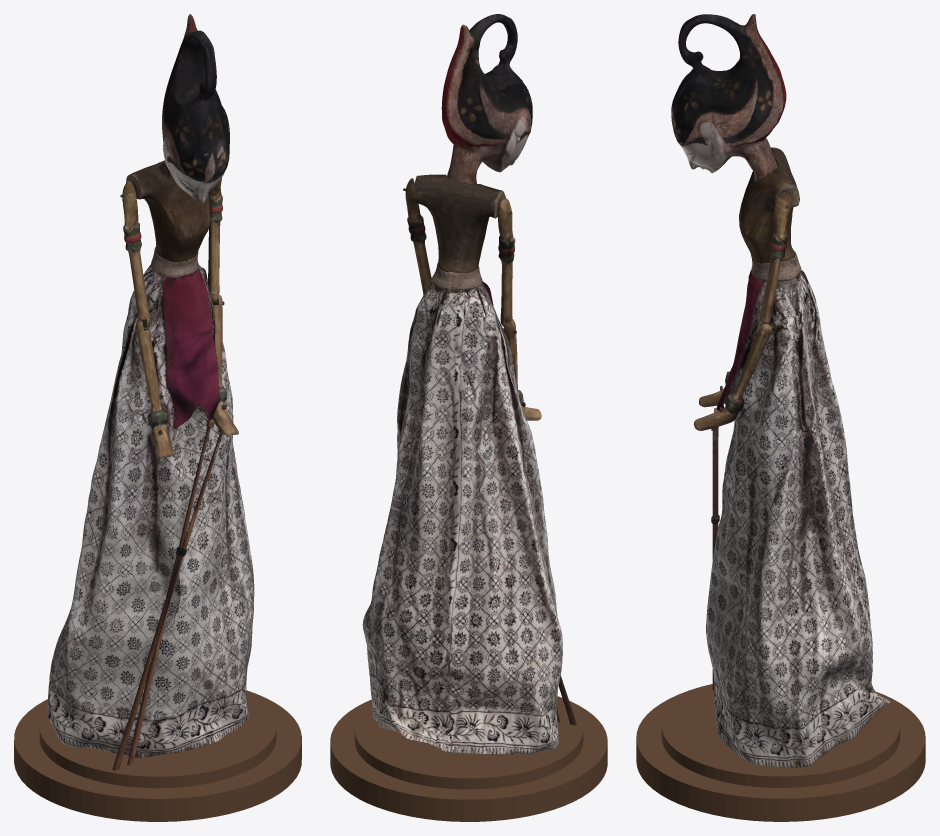
The model's file is hantu_wayang.glb.
3 renders of one model, left to right at view 1: azimuth 30°, elevation 25°; view 2: azimuth 150°, elevation 25°; view 3: azimuth 270°, elevation 25°, orthographic. The views are drawn at different scales.
Parts seen in each view (by area): view 1: Wayang_Batik_Skirt, Wayang_Body_Arms, Wayang_Pedestal_Base, Wayang_Head_Gelung, Wayang_Pedestal_Tier; view 2: Wayang_Batik_Skirt, Wayang_Pedestal_Base, Wayang_Head_Gelung, Wayang_Body_Arms, Wayang_Pedestal_Tier; view 3: Wayang_Batik_Skirt, Wayang_Head_Gelung, Wayang_Pedestal_Base, Wayang_Pedestal_Tier, Wayang_Body_Arms.
Boxes of the visible parts, left/top/right/bottom form: Wayang_Batik_Skirt: left=47, top=264, right=254, bottom=757; Wayang_Body_Arms: left=112, top=160, right=238, bottom=770; Wayang_Pedestal_Base: left=14, top=690, right=301, bottom=821; Wayang_Head_Gelung: left=151, top=14, right=229, bottom=278; Wayang_Pedestal_Tier: left=39, top=693, right=276, bottom=788; Wayang_Batik_Skirt: left=362, top=283, right=562, bottom=754; Wayang_Pedestal_Base: left=330, top=696, right=607, bottom=821; Wayang_Head_Gelung: left=430, top=14, right=532, bottom=290; Wayang_Body_Arms: left=403, top=174, right=576, bottom=725; Wayang_Pedestal_Tier: left=354, top=699, right=583, bottom=789; Wayang_Batik_Skirt: left=706, top=270, right=890, bottom=767; Wayang_Head_Gelung: left=671, top=14, right=801, bottom=281; Wayang_Pedestal_Base: left=636, top=684, right=925, bottom=821; Wayang_Pedestal_Tier: left=661, top=685, right=900, bottom=787; Wayang_Body_Arms: left=694, top=147, right=799, bottom=690.
Bounding box in the file's own units: 0.68 × 1.96 × 0.68.
Materials: 5 (3 with a texture image).
